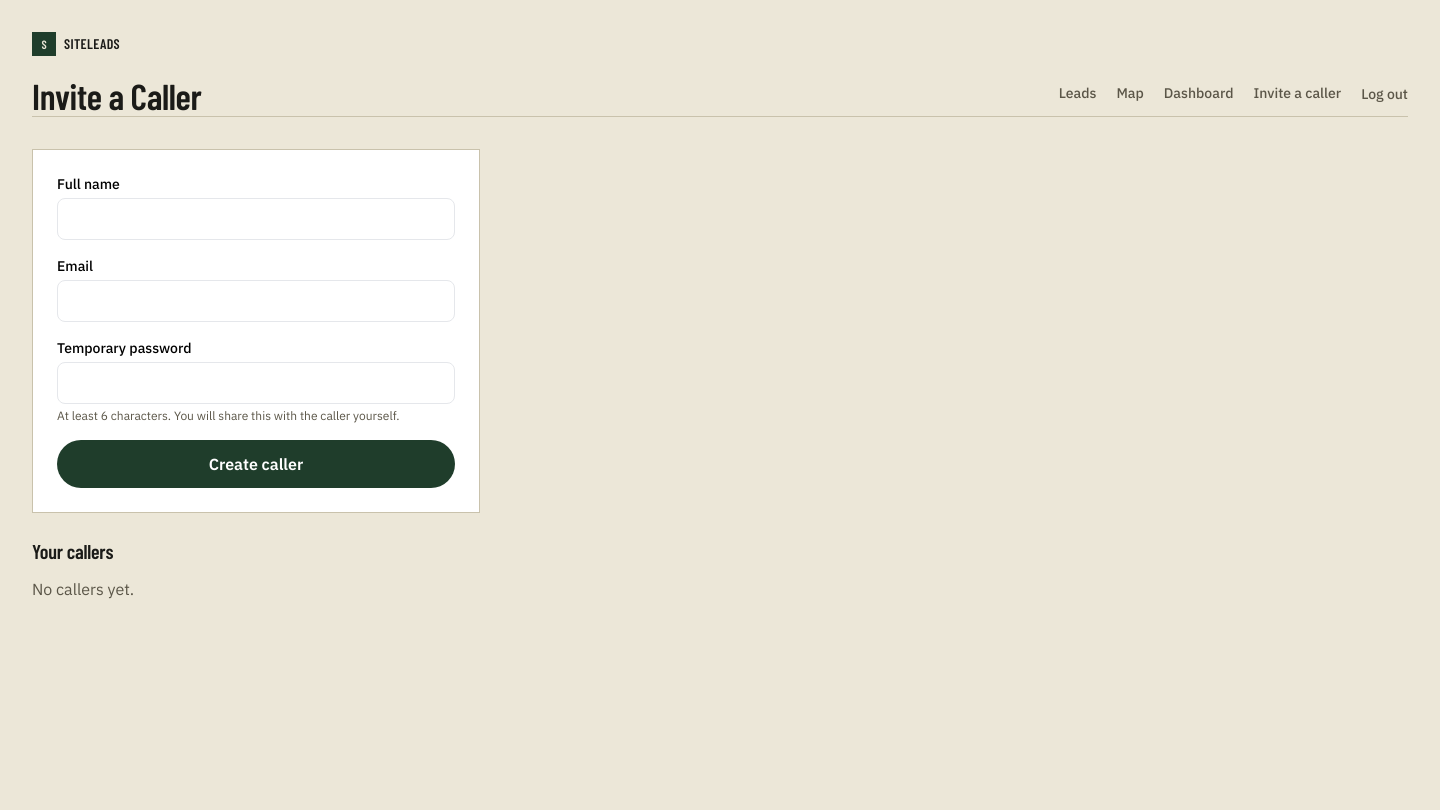
Test: InviteCallerScreen › shows the server's error message when the invite fails
The width and height of the screenshot is (1440, 810).
Expected: the text "No callers yet." is shown, [32, 579, 134, 599]
Type "Caller One" into the field labelled "Full name".
click(256, 219); type("Caller One")  # box [57, 198, 455, 240]
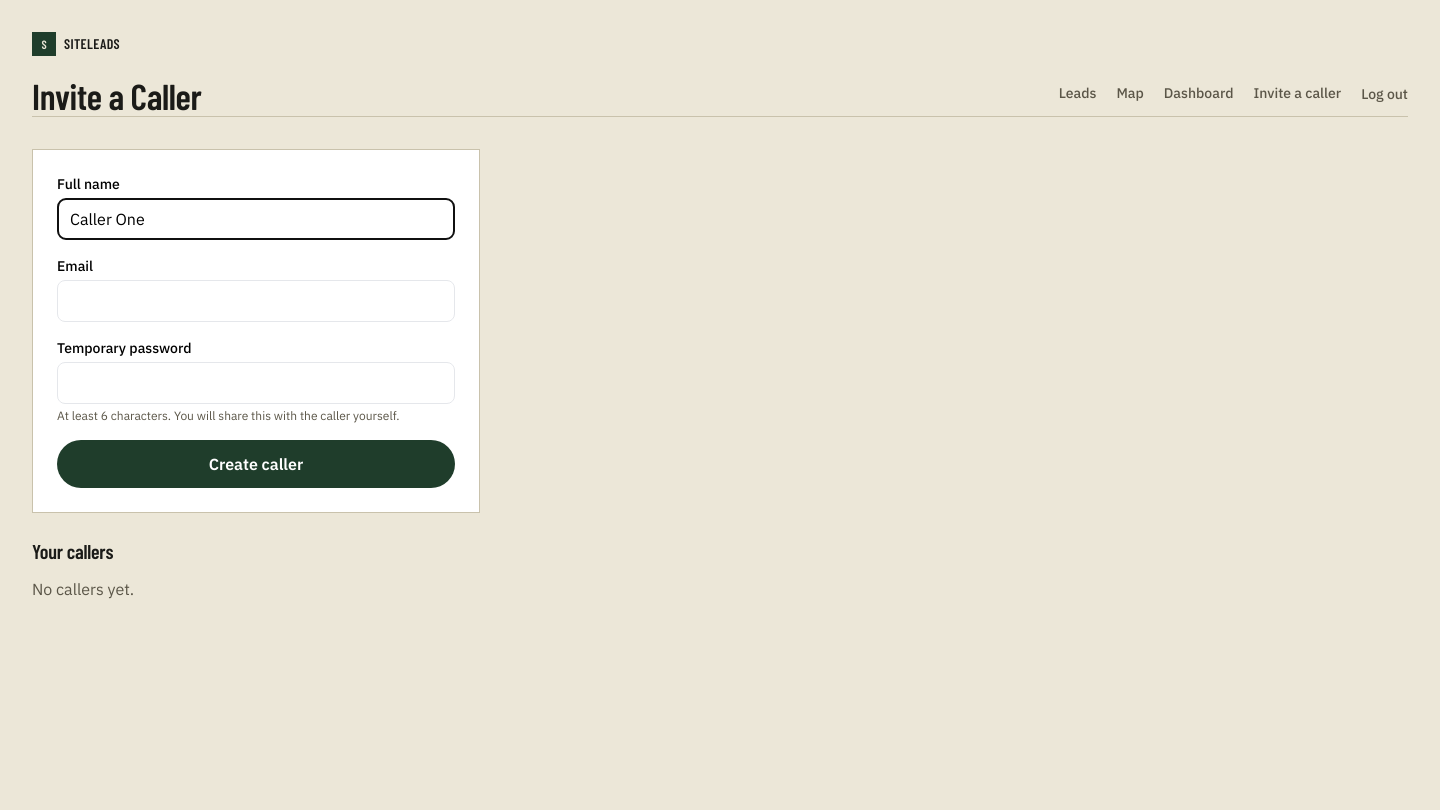
Type "caller@example.com" into the field labelled "Email".
click(256, 301); type("caller@example.com")  # box [57, 280, 455, 322]
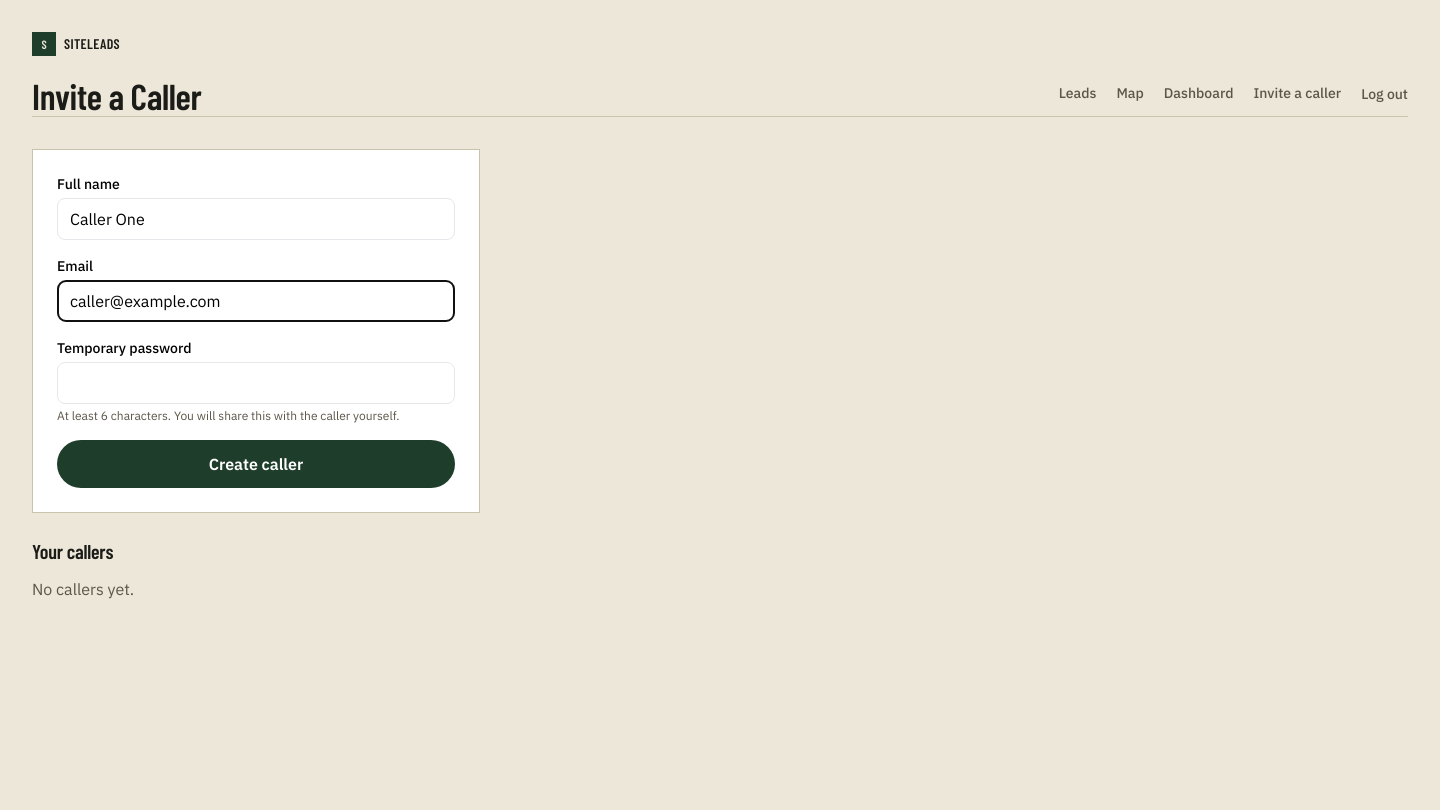
Type "secret12" into the field labelled "Temporary password".
click(256, 383); type("secret12")  # box [57, 362, 455, 404]
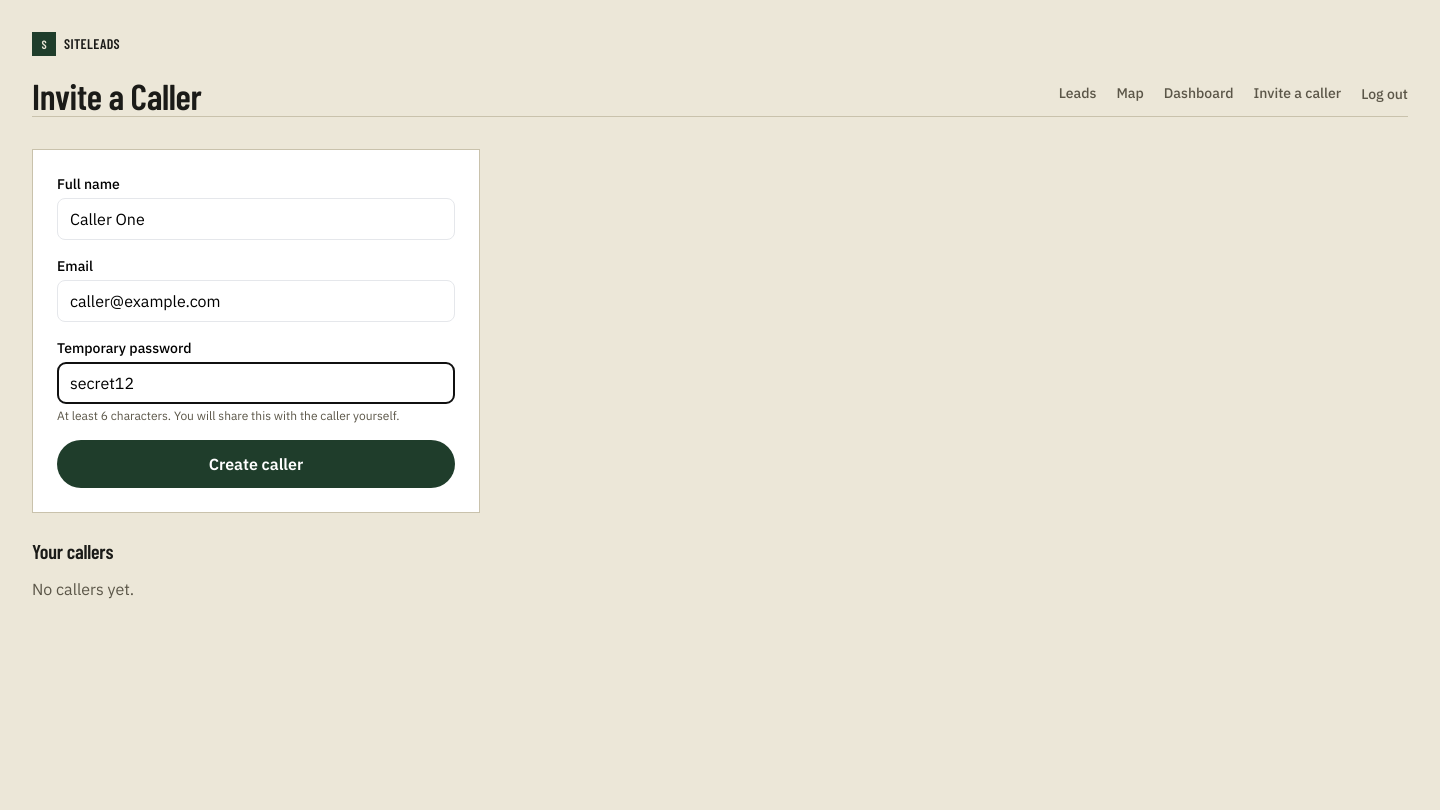
Click the button "Create caller".
click(256, 464)  # box [57, 440, 455, 488]
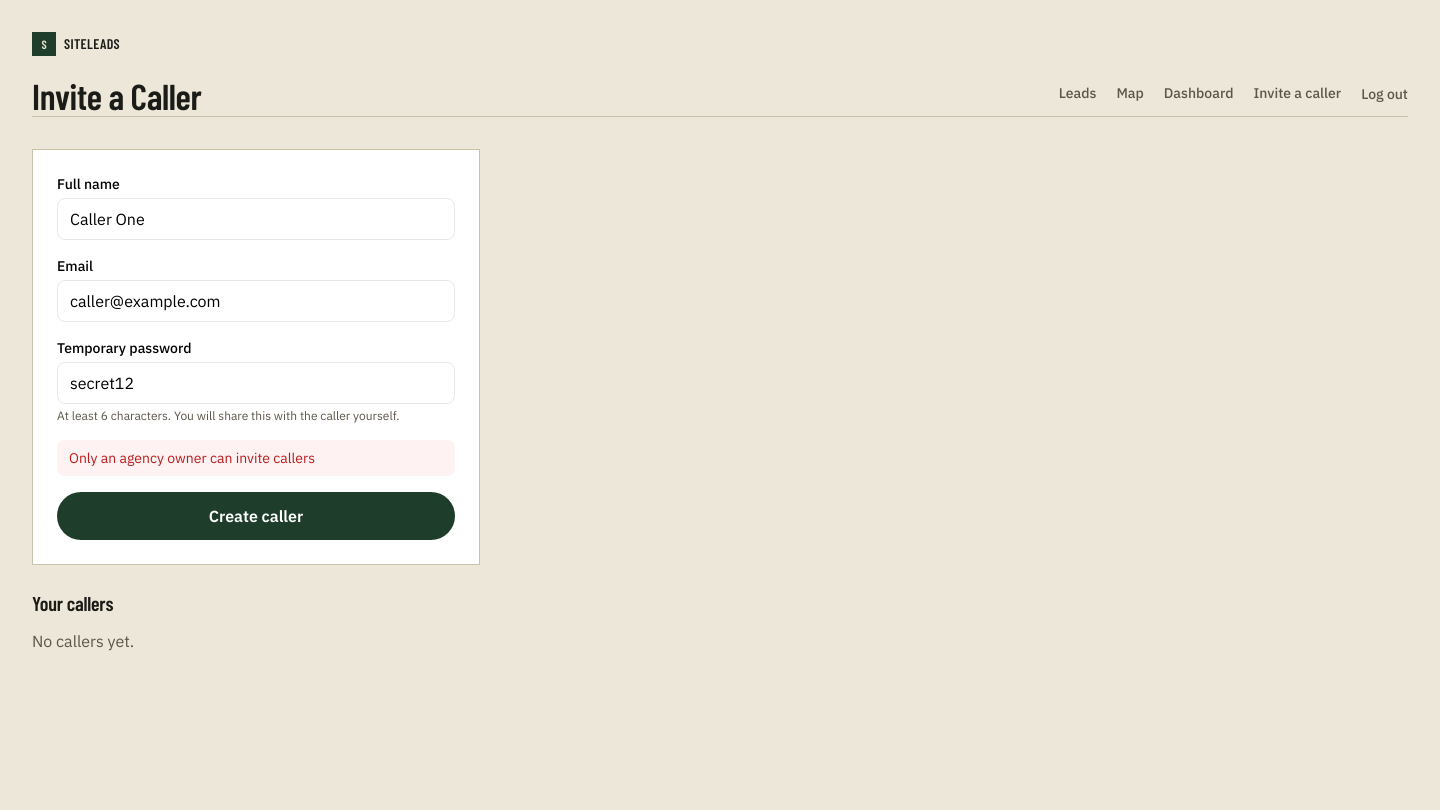
Expected: the text "Only an agency owner can invite callers" is shown, [57, 440, 455, 476]
